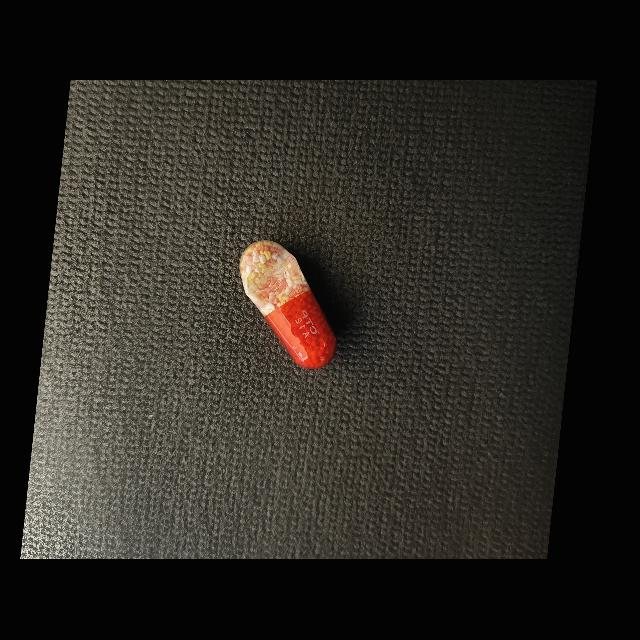Defective Capsule: (239, 241, 336, 370)
